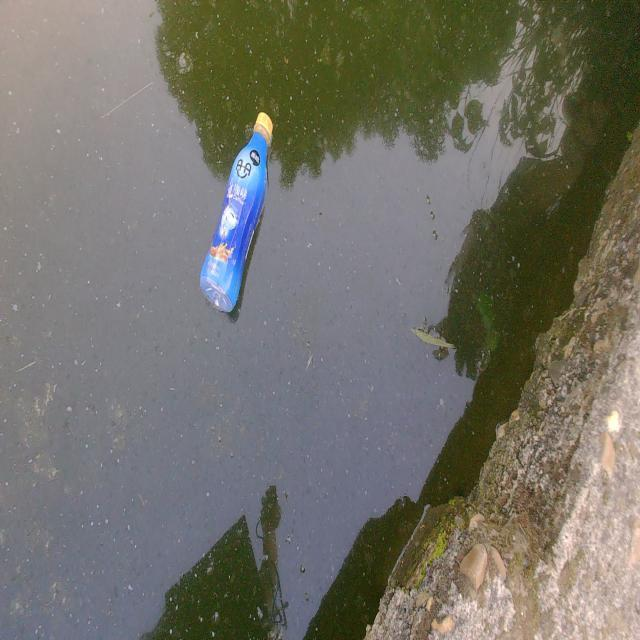bottle: (185, 99, 292, 327)
